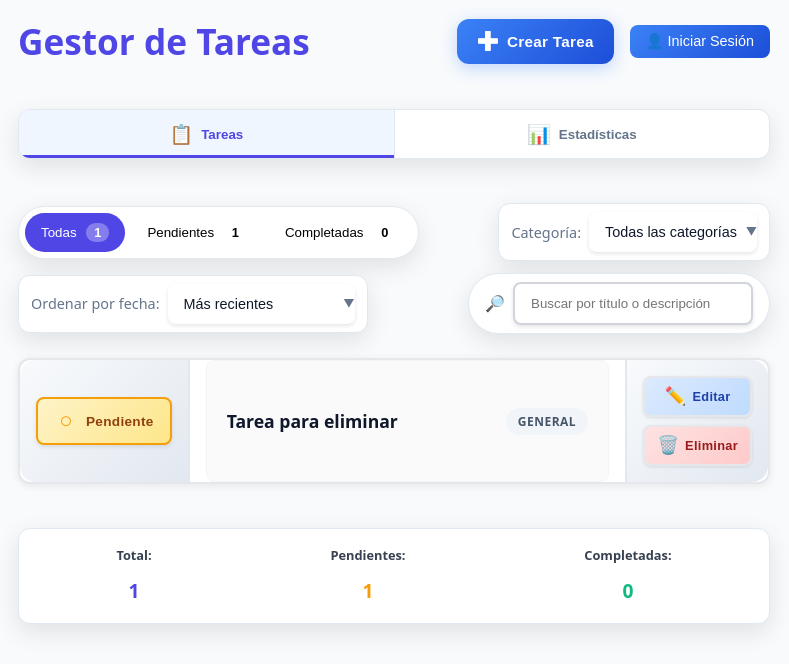
Gestor de Tareas - App Principal › 5. Eliminar Tarea › debe eliminar la tarea al confirmar
Check: the heading "Tarea para eliminar" is shown, box x1=227 y1=409 x2=398 y2=433
// Abrir modal de confirmación
Click the button with aria-label "eliminar tarea" at (698, 446), box x1=643 y1=425 x2=752 y2=466
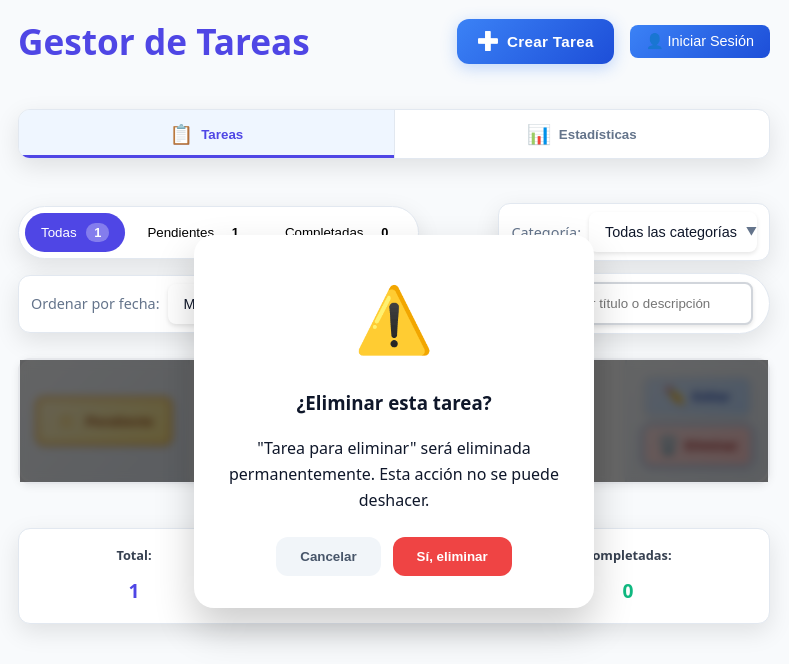
// Confirmar eliminación
Click the button "Sí, eliminar" at (452, 557), box x1=393 y1=537 x2=512 y2=576
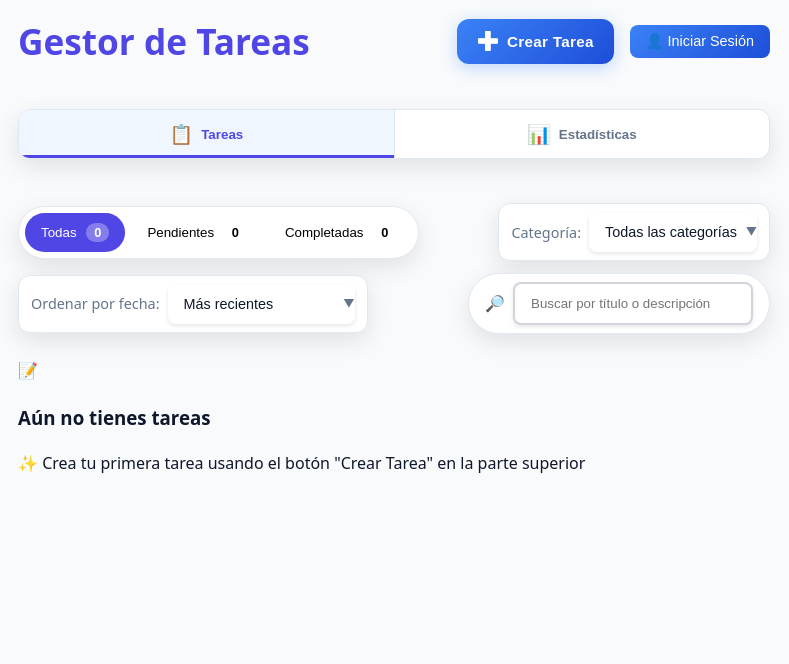
Check: the heading "Tarea para eliminar" is gone
